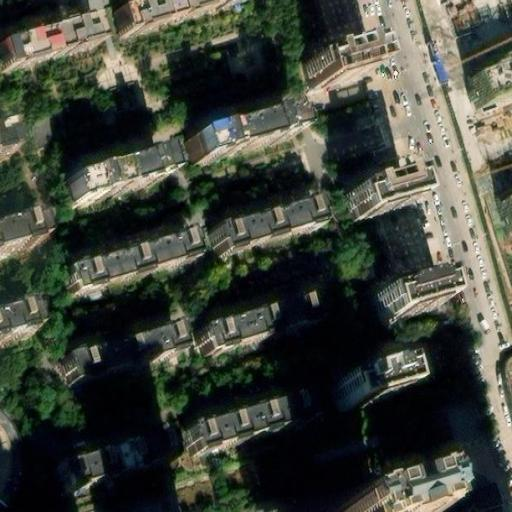building: (194, 302, 335, 367), (59, 242, 197, 307), (179, 401, 304, 465), (46, 432, 163, 495), (113, 0, 251, 47), (214, 210, 323, 269), (59, 337, 180, 390), (194, 115, 305, 169), (69, 158, 175, 213), (10, 26, 110, 80), (332, 361, 403, 411), (306, 40, 374, 87), (347, 172, 413, 216), (372, 277, 441, 319), (470, 62, 512, 104), (0, 306, 37, 349)
